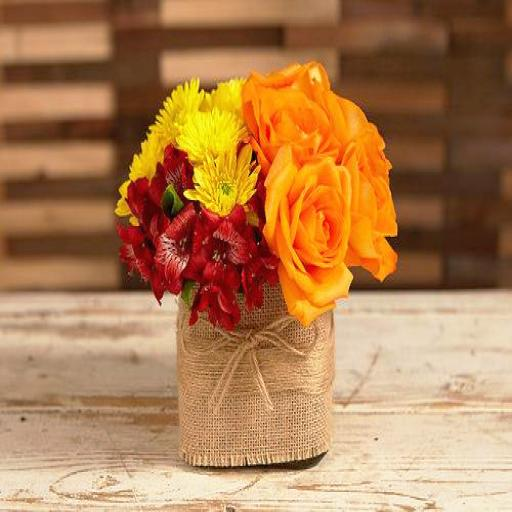rose: (259, 149, 351, 321), (241, 54, 337, 164), (345, 124, 409, 276)
